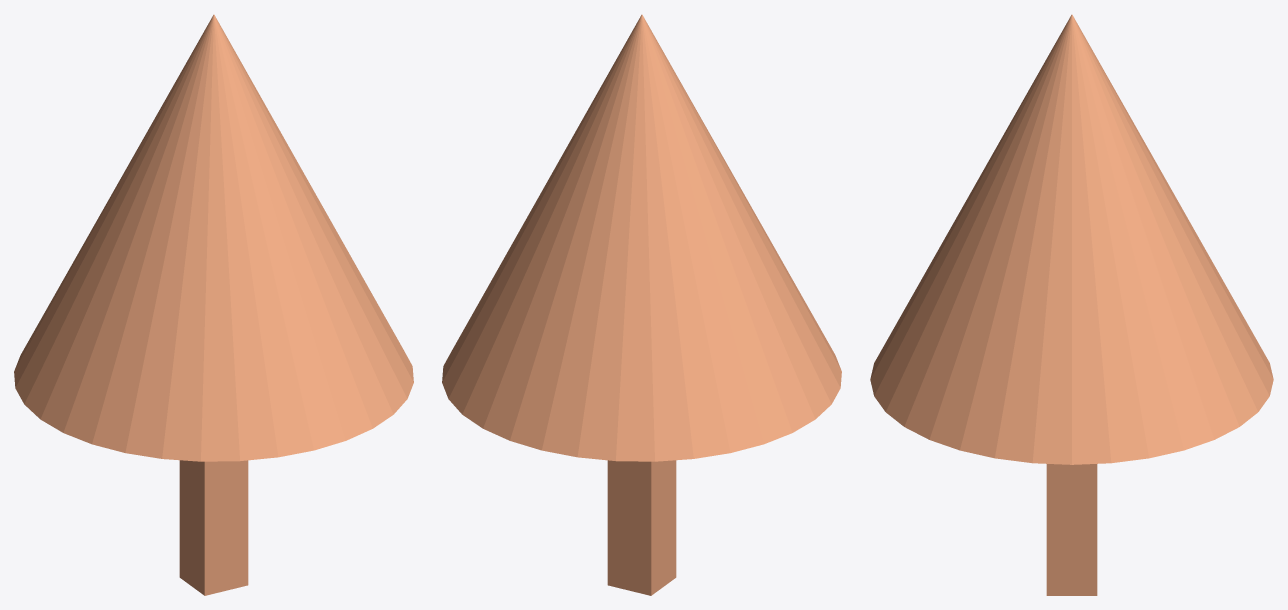
Rendered from tip.obj.
3 renders of one model, left to right at view 1: azimuth 30°, elevation 25°; view 2: azimuth 150°, elevation 25°; view 3: azimuth 270°, elevation 25°, orthographic.
Visible parts, largest first — view 1: 円錐; view 2: 円錐; view 3: 円錐.
Part boxes in pixels (box(x1,y1,x2,y2)): 円錐: box(14, 14, 413, 595); 円錐: box(442, 14, 841, 595); 円錐: box(870, 14, 1273, 595).
Bounding box in the file's own units: 1.6 × 2.5 × 1.6.
